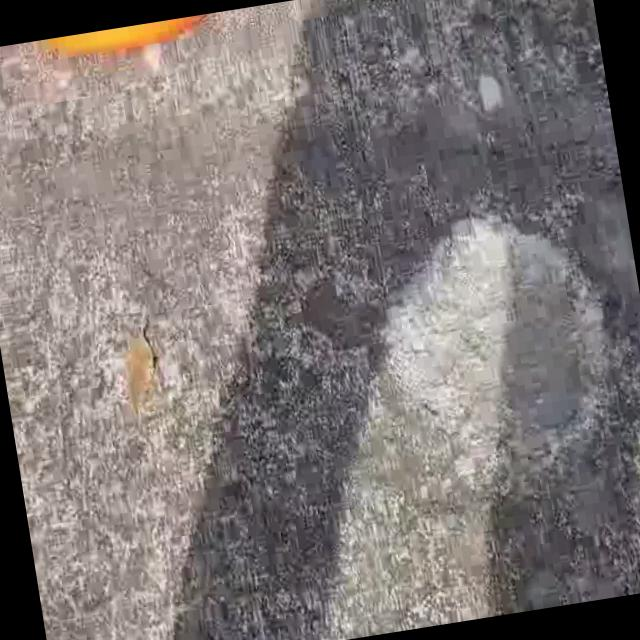note: (30, 14, 216, 76)
